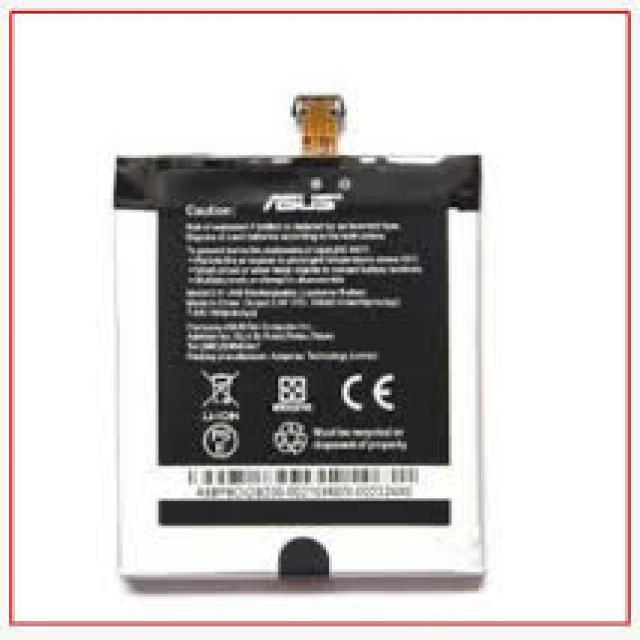non-organic waste: (109, 92, 487, 588)
